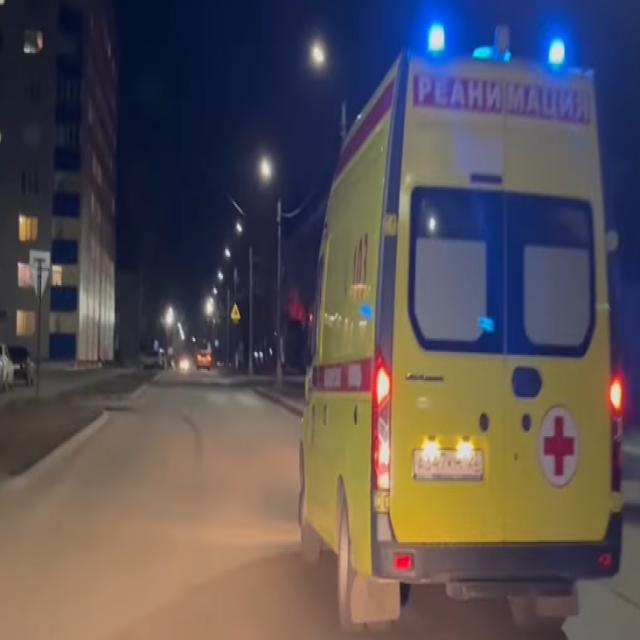intensive care unit: (299, 25, 626, 637)
non emergency car: (195, 348, 213, 373)
